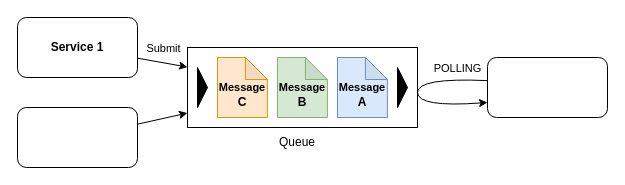
Some shapes in this 625 by 185 pixel diagram are drawn without their labels. The box of each missing label's shape, as (x1, y1, x2, y2) in pixels:
Service 2: (16, 106, 138, 168)
Service 3 (Queue consumer): (486, 56, 608, 118)
